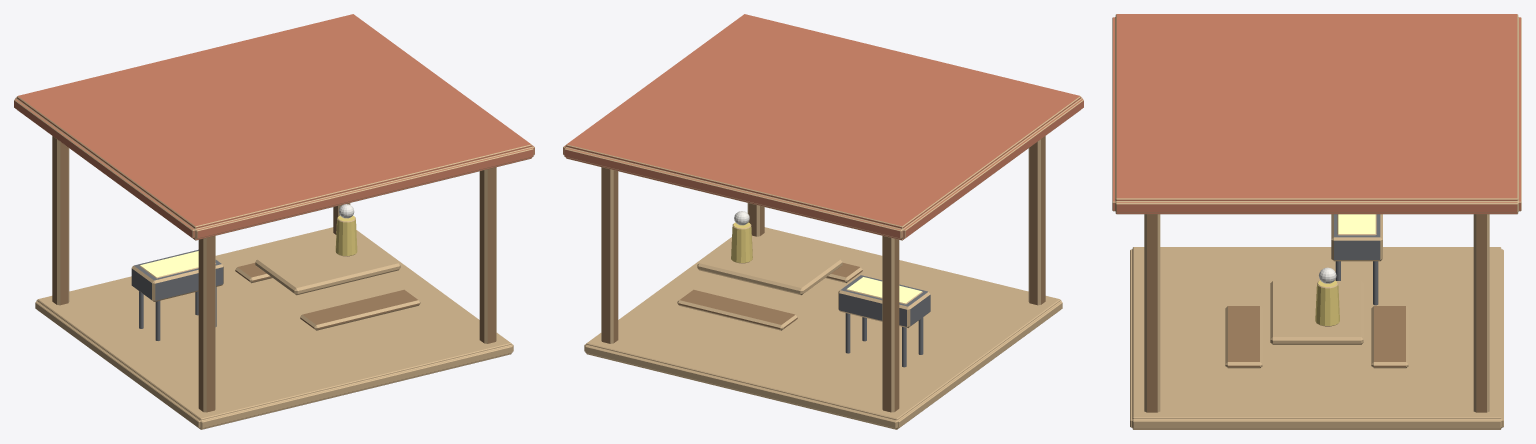
File: OW_HomeBackyardMangal.fbx
The picture shows the model from 3 angles, left to right: view 1: azimuth 30°, elevation 25°; view 2: azimuth 150°, elevation 25°; view 3: azimuth 270°, elevation 25°; orthographic projection. The views are drawn at different scales.
Visible parts, largest first — view 1: BackyardMangalPergola; view 2: BackyardMangalPergola; view 3: BackyardMangalPergola.
Part boxes in pixels (x1=…): BackyardMangalPergola: x1=14, y1=14, x2=534, y2=429; BackyardMangalPergola: x1=563, y1=14, x2=1083, y2=429; BackyardMangalPergola: x1=1112, y1=14, x2=1521, y2=429.
Size of the model in its own units: 500 by 296 by 460.
